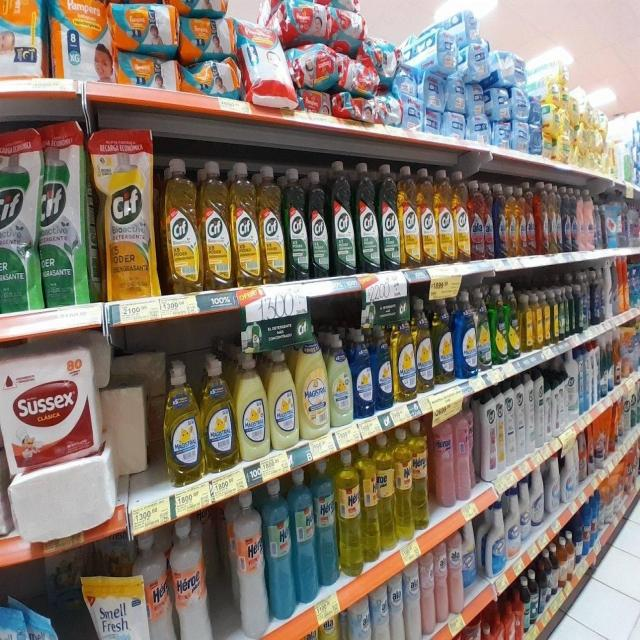ala_conc_amarillo: (549, 184, 561, 254), (507, 185, 517, 258), (517, 184, 526, 256)
ala_conc_azul: (494, 183, 506, 259), (562, 185, 571, 252), (568, 187, 577, 252)
ala_conc_rojo: (470, 181, 484, 261), (536, 181, 548, 255), (484, 182, 494, 260), (526, 183, 535, 256)
ala_crem_amarillo: (320, 615, 343, 640)
ala_crem_blanco: (405, 560, 421, 640), (350, 596, 372, 640), (373, 584, 390, 640), (391, 572, 405, 640), (496, 384, 506, 472), (506, 379, 516, 466)
ala_crem_rosado: (449, 531, 464, 616), (422, 551, 436, 636), (436, 542, 448, 626)
cif_conc_bot_amarilla: (162, 157, 199, 294), (200, 160, 230, 290), (231, 161, 259, 287), (260, 164, 284, 283), (400, 165, 420, 268), (436, 168, 454, 264), (420, 166, 436, 266), (454, 171, 470, 263)
cif_conc_botella_verde: (331, 160, 355, 276), (285, 166, 308, 281), (356, 161, 378, 273), (308, 168, 330, 278), (380, 162, 400, 271)
cif_conc_sachet_amarillo: (102, 128, 155, 300)
cif_conc_sachet_verde: (40, 121, 90, 306), (0, 127, 38, 312)
heroe: (232, 488, 266, 640), (173, 516, 212, 640), (266, 476, 294, 622), (293, 466, 316, 606), (338, 448, 362, 578), (316, 458, 336, 591), (362, 440, 378, 566), (434, 411, 454, 509), (378, 432, 394, 554), (412, 419, 429, 532), (395, 427, 412, 540), (455, 404, 473, 502)
magistral_con_amarillo: (164, 359, 202, 484), (202, 356, 235, 471), (393, 312, 416, 402), (434, 296, 454, 384), (416, 298, 433, 392)
magistral_con_azul: (455, 290, 476, 379), (353, 326, 373, 418), (374, 324, 393, 410)
magistral_con_crema: (237, 349, 268, 459), (298, 329, 329, 439), (269, 347, 298, 449), (330, 332, 352, 428)
